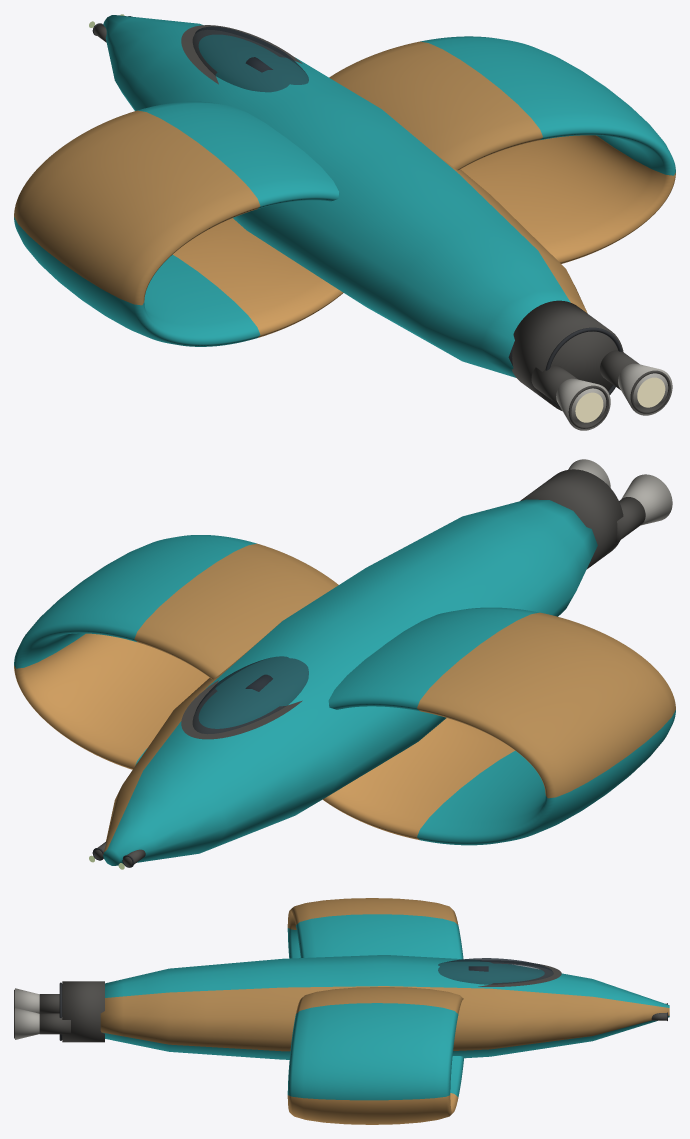
The model's file is Ship_TwoHoop_217137.glb.
The picture shows the model from 3 angles, top to bottom: view 1: azimuth 30°, elevation 25°; view 2: azimuth 150°, elevation 25°; view 3: azimuth 270°, elevation 25°; orthographic projection. The views are drawn at different scales.
Parts seen in each view (by area): view 1: Fuselage_MainCenteredHull_CenterOfMassAtOrigin, Hoop_Left_StructuralRing_YAxisHole_CenterTangent_AftSwept, Hoop_Right_StructuralRing_YAxisHole_CenterTangent_AftSwept, EngineBlock_AftHullIntegratedMountPlate, CanopyGlass_LowForwardPodDome, CanopyFrame_LowInsetOvalRim, EngineEmitter, EngineBell_Right_AftHullBurnishedNozzle, EngineBell_Left_AftHullBurnishedNozzle, EngineThroat_Left_AftHullDarkSocket, EngineThroat_Right_AftHullDarkSocket; view 2: Fuselage_MainCenteredHull_CenterOfMassAtOrigin, Hoop_Left_StructuralRing_YAxisHole_CenterTangent_AftSwept, Hoop_Right_StructuralRing_YAxisHole_CenterTangent_AftSwept, CanopyGlass_LowForwardPodDome, EngineBlock_AftHullIntegratedMountPlate, CanopyFrame_LowInsetOvalRim, EngineBell_Left_AftHullBurnishedNozzle, EngineThroat_Left_AftHullDarkSocket; view 3: Fuselage_MainCenteredHull_CenterOfMassAtOrigin, Hoop_Right_StructuralRing_YAxisHole_CenterTangent_AftSwept, Hoop_Left_StructuralRing_YAxisHole_CenterTangent_AftSwept, EngineBlock_AftHullIntegratedMountPlate, CanopyGlass_LowForwardPodDome, CanopyFrame_LowInsetOvalRim, EngineBell_Right_AftHullBurnishedNozzle, EngineThroat_Right_AftHullDarkSocket, EngineBell_Left_AftHullBurnishedNozzle, EngineThroat_Left_AftHullDarkSocket.
Boxes of the visible parts, left/top/right/bottom form: Fuselage_MainCenteredHull_CenterOfMassAtOrigin: left=103, top=15, right=587, bottom=377; Hoop_Left_StructuralRing_YAxisHole_CenterTangent_AftSwept: left=14, top=101, right=343, bottom=346; Hoop_Right_StructuralRing_YAxisHole_CenterTangent_AftSwept: left=329, top=36, right=675, bottom=263; EngineBlock_AftHullIntegratedMountPlate: left=511, top=300, right=623, bottom=410; CanopyGlass_LowForwardPodDome: left=192, top=26, right=308, bottom=92; CanopyFrame_LowInsetOvalRim: left=181, top=25, right=302, bottom=84; EngineEmitter: left=575, top=377, right=665, bottom=422; EngineBell_Right_AftHullBurnishedNozzle: left=618, top=363, right=672, bottom=415; EngineBell_Left_AftHullBurnishedNozzle: left=556, top=378, right=610, bottom=430; EngineThroat_Left_AftHullDarkSocket: left=531, top=365, right=577, bottom=404; EngineThroat_Right_AftHullDarkSocket: left=600, top=350, right=639, bottom=389; Fuselage_MainCenteredHull_CenterOfMassAtOrigin: left=103, top=499, right=597, bottom=865; Hoop_Left_StructuralRing_YAxisHole_CenterTangent_AftSwept: left=322, top=607, right=675, bottom=845; Hoop_Right_StructuralRing_YAxisHole_CenterTangent_AftSwept: left=14, top=535, right=338, bottom=769; CanopyGlass_LowForwardPodDome: left=192, top=656, right=308, bottom=733; EngineBlock_AftHullIntegratedMountPlate: left=520, top=469, right=623, bottom=569; CanopyFrame_LowInsetOvalRim: left=181, top=680, right=302, bottom=739; EngineBell_Left_AftHullBurnishedNozzle: left=621, top=474, right=672, bottom=525; EngineThroat_Left_AftHullDarkSocket: left=614, top=497, right=645, bottom=543; Fuselage_MainCenteredHull_CenterOfMassAtOrigin: left=100, top=955, right=669, bottom=1059; Hoop_Right_StructuralRing_YAxisHole_CenterTangent_AftSwept: left=287, top=987, right=464, bottom=1124; Hoop_Left_StructuralRing_YAxisHole_CenterTangent_AftSwept: left=287, top=898, right=463, bottom=958; EngineBlock_AftHullIntegratedMountPlate: left=62, top=981, right=104, bottom=1042; CanopyGlass_LowForwardPodDome: left=438, top=958, right=553, bottom=984; CanopyFrame_LowInsetOvalRim: left=478, top=961, right=561, bottom=986; EngineBell_Right_AftHullBurnishedNozzle: left=15, top=1007, right=39, bottom=1039; EngineThroat_Right_AftHullDarkSocket: left=39, top=1013, right=70, bottom=1034; EngineBell_Left_AftHullBurnishedNozzle: left=15, top=988, right=39, bottom=1013; EngineThroat_Left_AftHullDarkSocket: left=39, top=994, right=59, bottom=1013.
Bounding box in the file's own units: 4.01 × 1.11 × 6.31.
